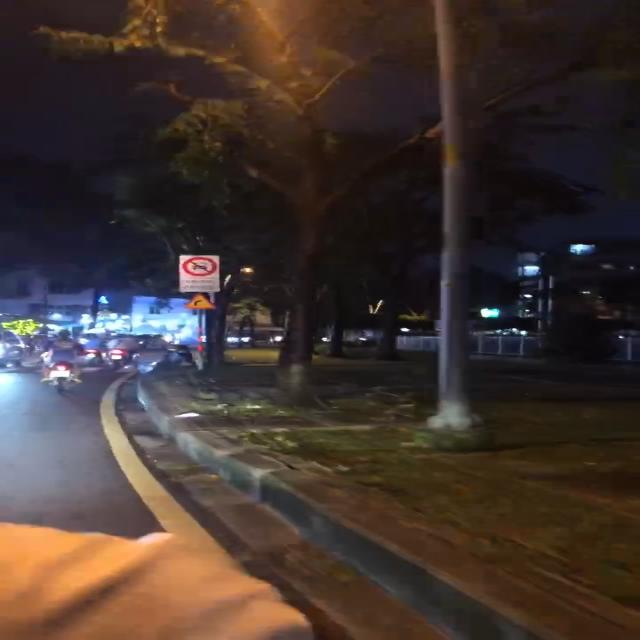Bien bao cam xe oto: (178, 255, 216, 278)
Bien bao cho ngoat nguy hiem: (182, 294, 216, 311)
